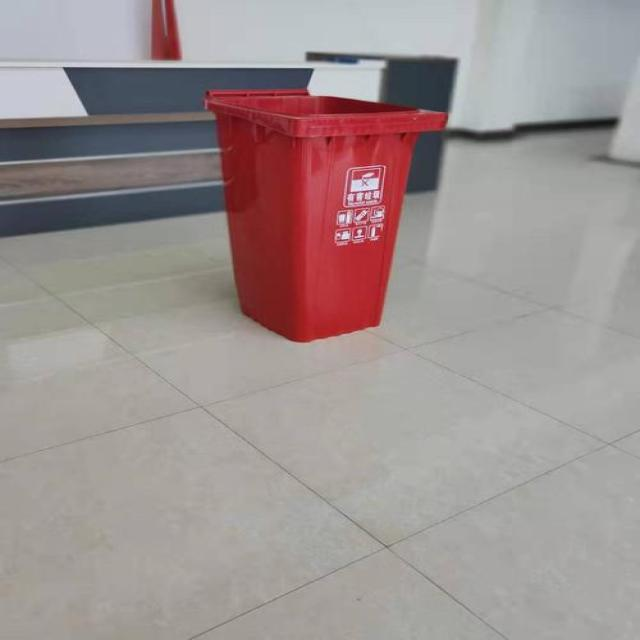garbage_bin: (201, 88, 447, 341)
